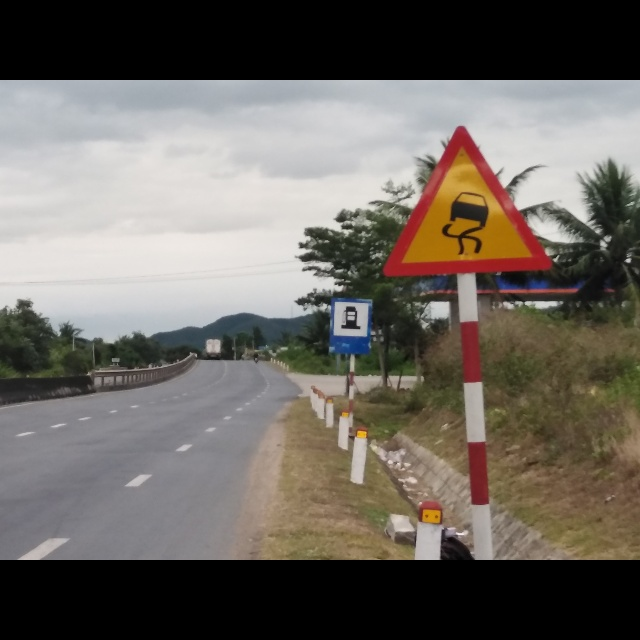Đường trơn trượt: (382, 126, 551, 275)
